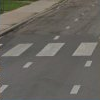crosswalk: (0, 42, 97, 56)
